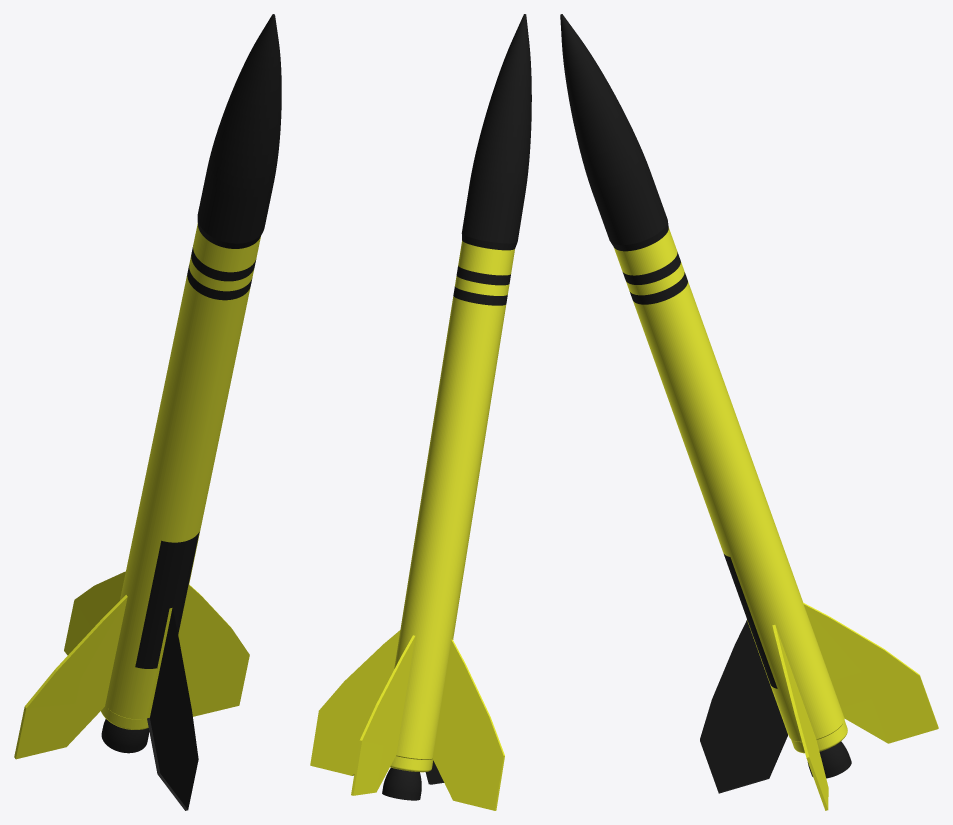
File: Yellow_Toy_Rocket.gltf
The picture shows the model from 3 angles, left to right: view 1: azimuth 30°, elevation 25°; view 2: azimuth 150°, elevation 25°; view 3: azimuth 270°, elevation 25°; orthographic projection. The views are drawn at different scales.
Parts seen in each view (by area): view 1: GeometryNode_16, GeometryNode_5, GeometryNode_37, GeometryNode_48; view 2: GeometryNode_16, GeometryNode_37, GeometryNode_5; view 3: GeometryNode_16, GeometryNode_5, GeometryNode_37, GeometryNode_48.
Part boxes in pixels (x1=…): GeometryNode_16: x1=101, y1=223, x2=260, y2=729; GeometryNode_5: x1=101, y1=14, x2=281, y2=753; GeometryNode_37: x1=14, y1=571, x2=249, y2=759; GeometryNode_48: x1=147, y1=608, x2=198, y2=810; GeometryNode_16: x1=390, y1=240, x2=514, y2=772; GeometryNode_37: x1=310, y1=630, x2=504, y2=810; GeometryNode_5: x1=382, y1=14, x2=531, y2=800; GeometryNode_16: x1=614, y1=227, x2=847, y2=753; GeometryNode_5: x1=560, y1=14, x2=851, y2=778; GeometryNode_37: x1=747, y1=603, x2=938, y2=810; GeometryNode_48: x1=700, y1=619, x2=787, y2=793.
Bounding box in the file's own units: 23.66 × 87.11 × 38.37.
